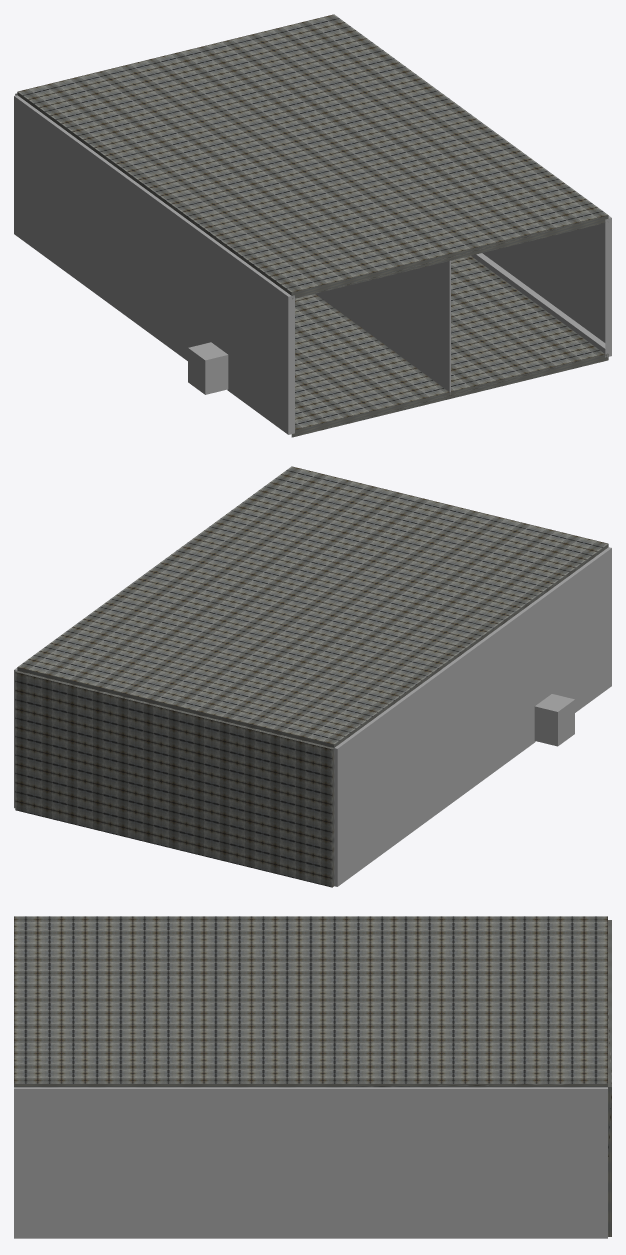
3 renders of one model, top to bottom at view 1: azimuth 30°, elevation 25°; view 2: azimuth 150°, elevation 25°; view 3: azimuth 270°, elevation 25°, orthographic. The views are drawn at different scales.
Visible parts, largest first — view 1: plafond, leftwall2, vloer, rightwall, leftwall1, middlewall, boxlinks, leftwall3; view 2: plafond, backwall, leftwall2, leftwall1, boxlinks, leftwall3; view 3: plafond, rightwall, backwall.
Part boxes in pixels (box(x1,y1,x2,y2)): plafond: box(17, 14, 608, 299); leftwall2: box(14, 95, 214, 360); vloer: box(291, 256, 608, 437); rightwall: box(471, 216, 611, 357); leftwall1: box(227, 251, 294, 434); middlewall: box(315, 258, 450, 394); boxlinks: box(188, 342, 228, 394); leftwall3: box(212, 240, 230, 353); plafond: box(17, 466, 608, 747); backwall: box(15, 670, 334, 887); leftwall2: box(334, 603, 535, 886); leftwall1: box(548, 547, 611, 712); boxlinks: box(534, 694, 574, 746); leftwall3: box(533, 592, 550, 705); plafond: box(14, 916, 607, 1087); rightwall: box(14, 1087, 607, 1238); backwall: box(608, 920, 611, 1236).
Size of the model in its own units: 26.25 by 10.5 by 36.25.
